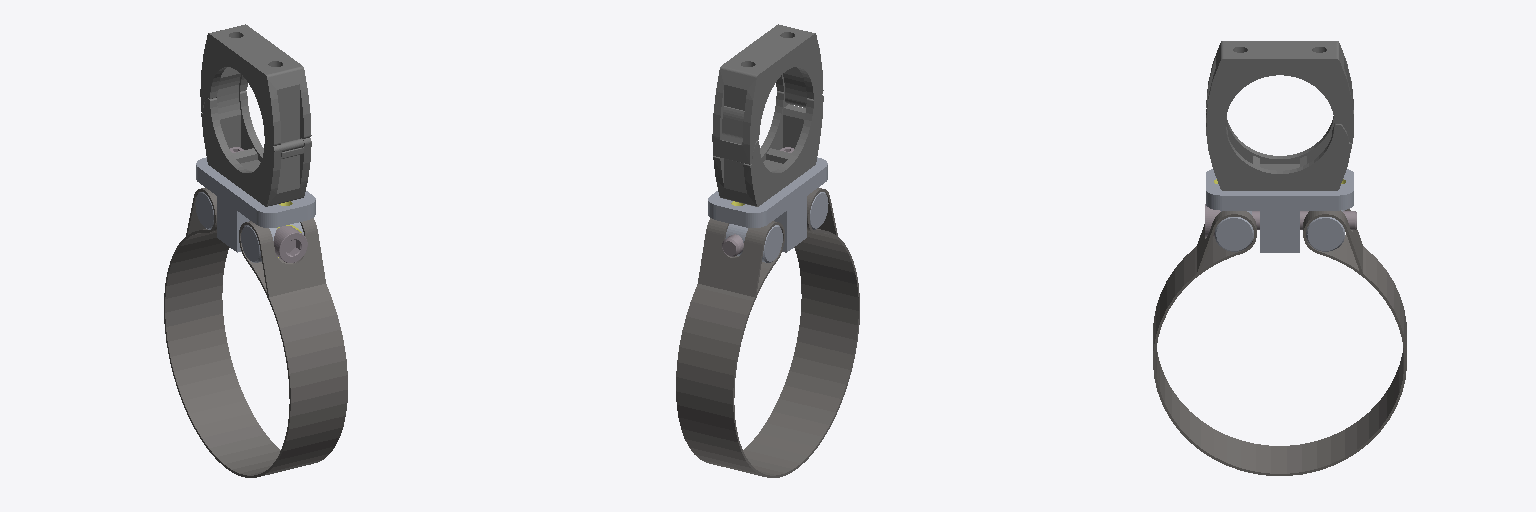
Rendered from mounting_clamp_small_TR_911_965_075_Z0.obj.
3 renders of one model, left to right at view 1: azimuth 30°, elevation 25°; view 2: azimuth 150°, elevation 25°; view 3: azimuth 270°, elevation 25°, orthographic.
Size of the model in its own units: 0.02 by 0.1377 by 0.0769.